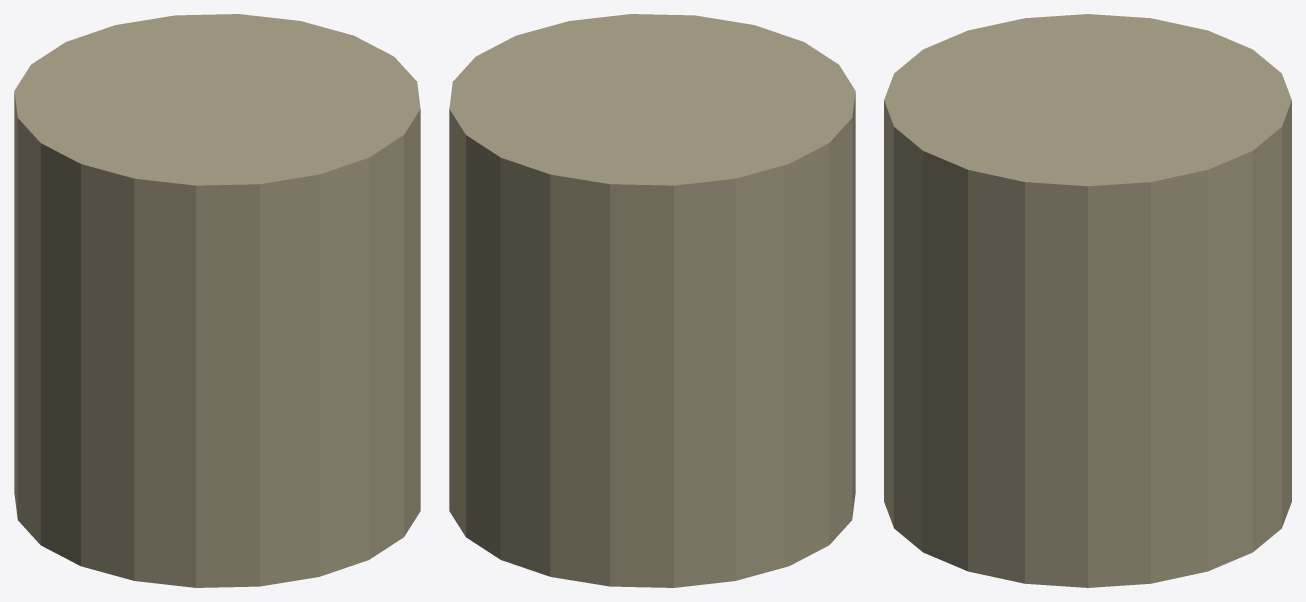
File: bandage_roll.obj
3 renders of one model, left to right at view 1: azimuth 30°, elevation 25°; view 2: azimuth 150°, elevation 25°; view 3: azimuth 270°, elevation 25°, orthographic.
Size of the model in its own units: 0.46 by 0.5 by 0.46.
